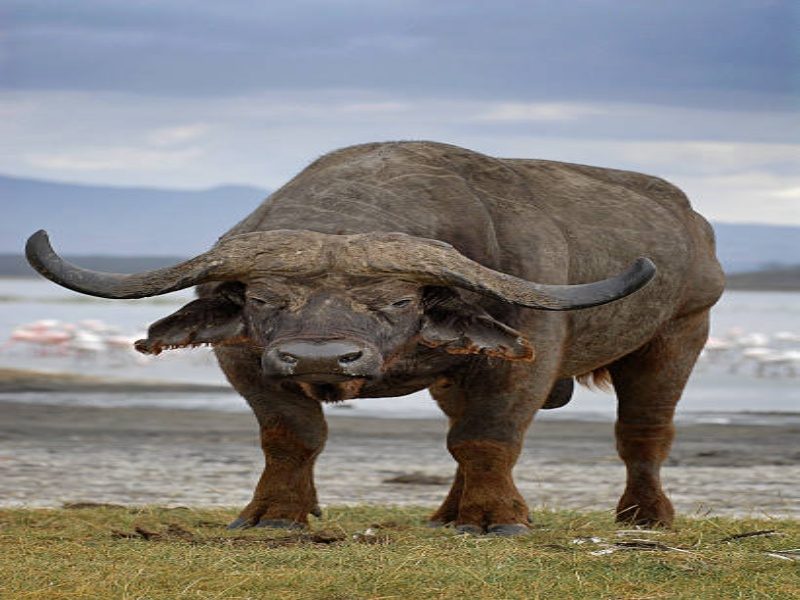buffalo: (24, 127, 729, 548)
